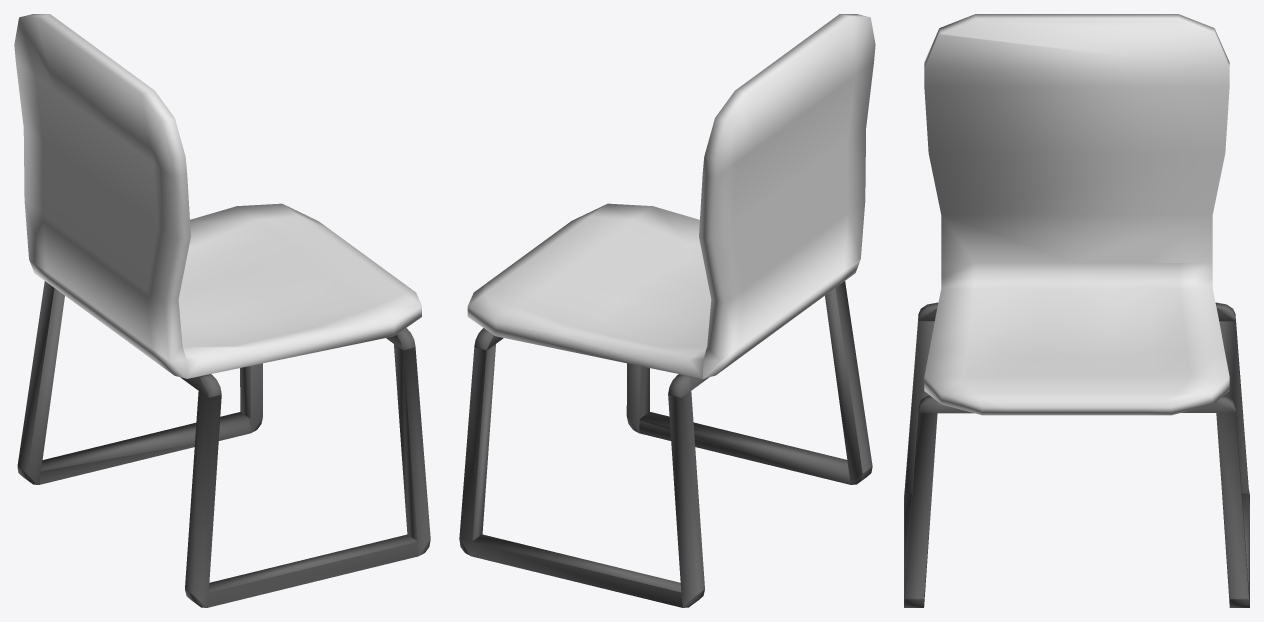
Rendered from Plastic_Chair.fbx.
3 views of the same model, side by side, from view 1: azimuth 30°, elevation 25°; view 2: azimuth 150°, elevation 25°; view 3: azimuth 270°, elevation 25° (orthographic). The views are drawn at different scales.
Visible parts, largest first — view 1: Plastic_Chair; view 2: Plastic_Chair; view 3: Plastic_Chair.
Part boxes in pixels (box(x1,y1,x2,y2)): Plastic_Chair: box(14, 14, 430, 607); Plastic_Chair: box(459, 14, 875, 607); Plastic_Chair: box(904, 14, 1249, 607).
Bounding box in the file's own units: 52.56 × 89.13 × 58.34.
1 material, 1 textured.
